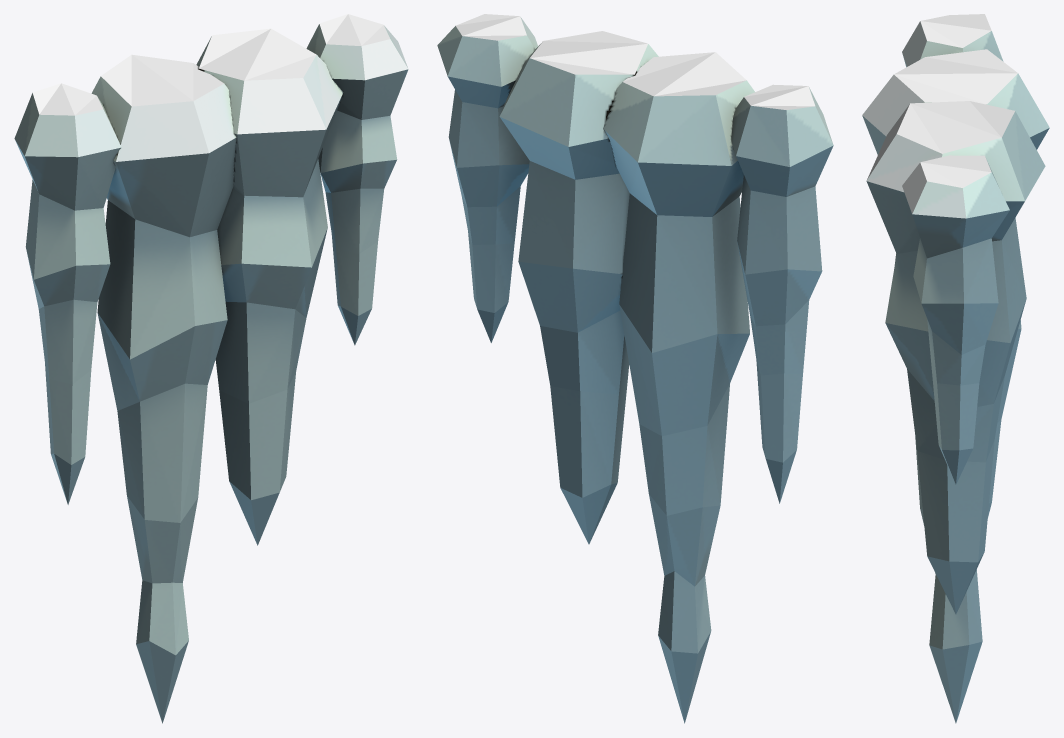
File: Icicle.glb
3 renders of one model, left to right at view 1: azimuth 30°, elevation 25°; view 2: azimuth 150°, elevation 25°; view 3: azimuth 270°, elevation 25°, orthographic.
Visible parts, largest first — view 1: icicle; view 2: icicle; view 3: icicle.
Boxes of the visible parts, x1=… form: icicle: x1=14, y1=14, x2=408, y2=723; icicle: x1=437, y1=14, x2=833, y2=723; icicle: x1=862, y1=14, x2=1049, y2=723.
Bounding box in the file's own units: 1.39 × 2.25 × 0.5866.
Materials: 1 (1 with a texture image).
